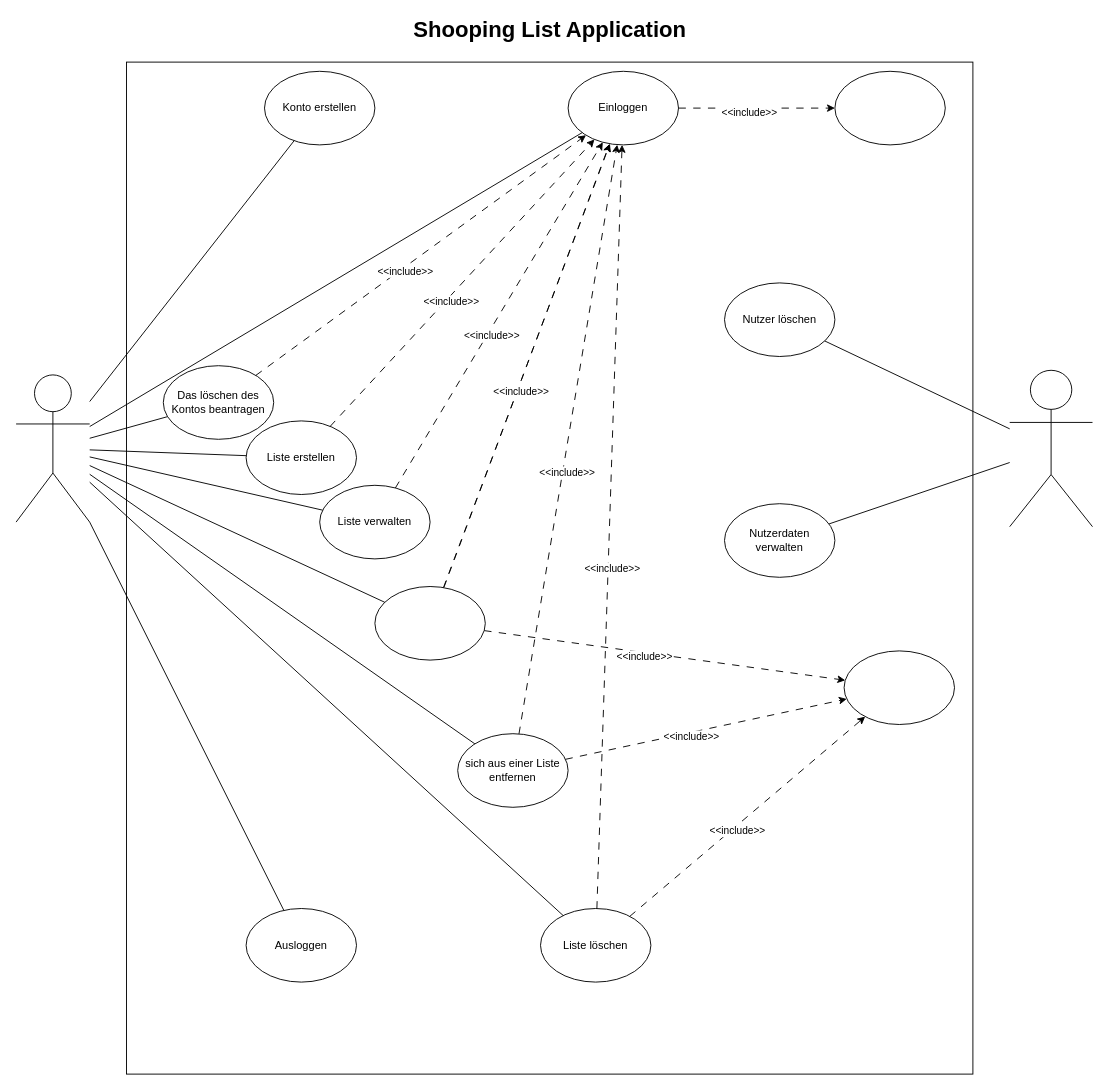
Image size: 1109x1090. Some labels were removed from this diagram. The box of each missing label's shape, as (x1, y1, x2, y2) in pixels:
Admin: (1009, 369, 1092, 527)
Authentifizieren: (834, 70, 945, 145)
Listennutzer verwalten: (374, 586, 485, 660)
Nutzer: (15, 374, 90, 522)
Nutzerrolle herausfinden: (843, 650, 954, 724)
